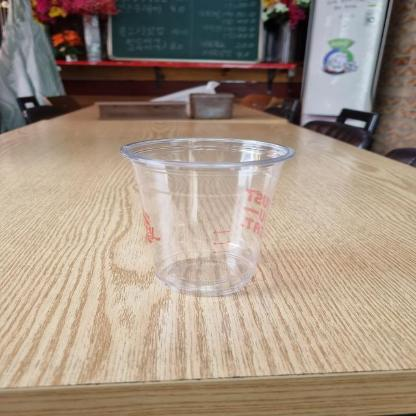Plastic Cup: (122, 132, 298, 300)
